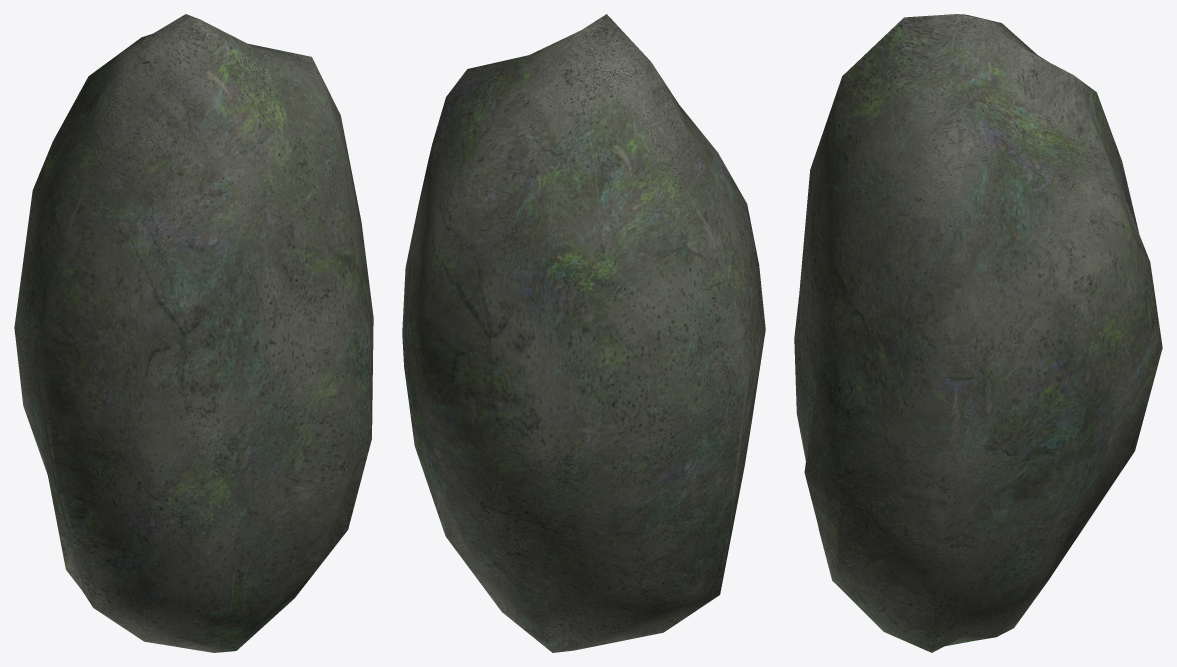
The model's file is Boulder 1 - LOD 1.fbx.
3 views of the same model, side by side, from view 1: azimuth 30°, elevation 25°; view 2: azimuth 150°, elevation 25°; view 3: azimuth 270°, elevation 25° (orthographic).
Visible parts, largest first — view 1: Boulder 1 - LOD 1; view 2: Boulder 1 - LOD 1; view 3: Boulder 1 - LOD 1.
Boxes of the visible parts, x1,y1,x2,y2 form: Boulder 1 - LOD 1: (14, 14, 373, 652); Boulder 1 - LOD 1: (402, 14, 765, 652); Boulder 1 - LOD 1: (794, 14, 1162, 652).
Size of the model in its own units: 4.31 by 7.83 by 4.11.
